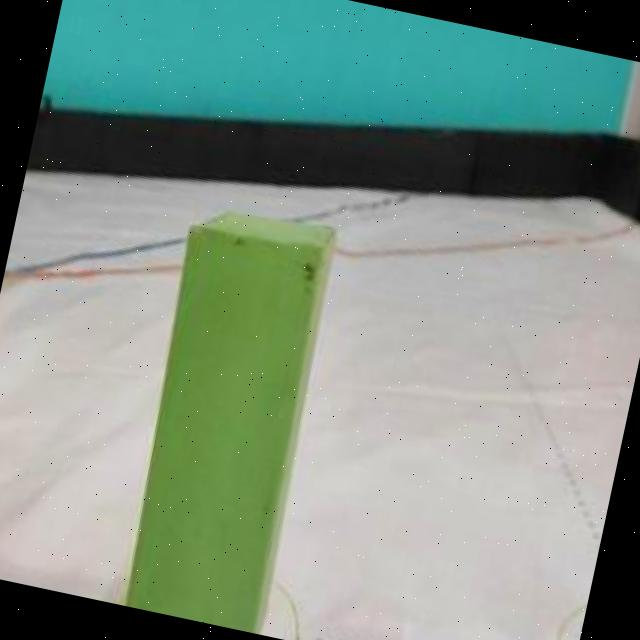greenbox: (108, 197, 342, 633)
